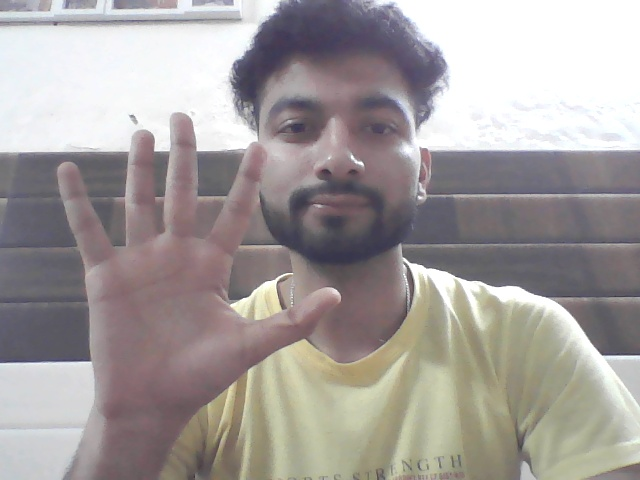Hello: (41, 110, 346, 425)
